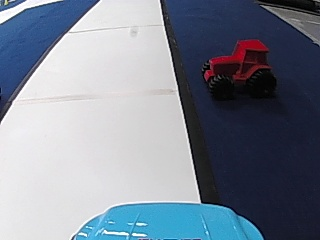tractor: (198, 36, 278, 101)
